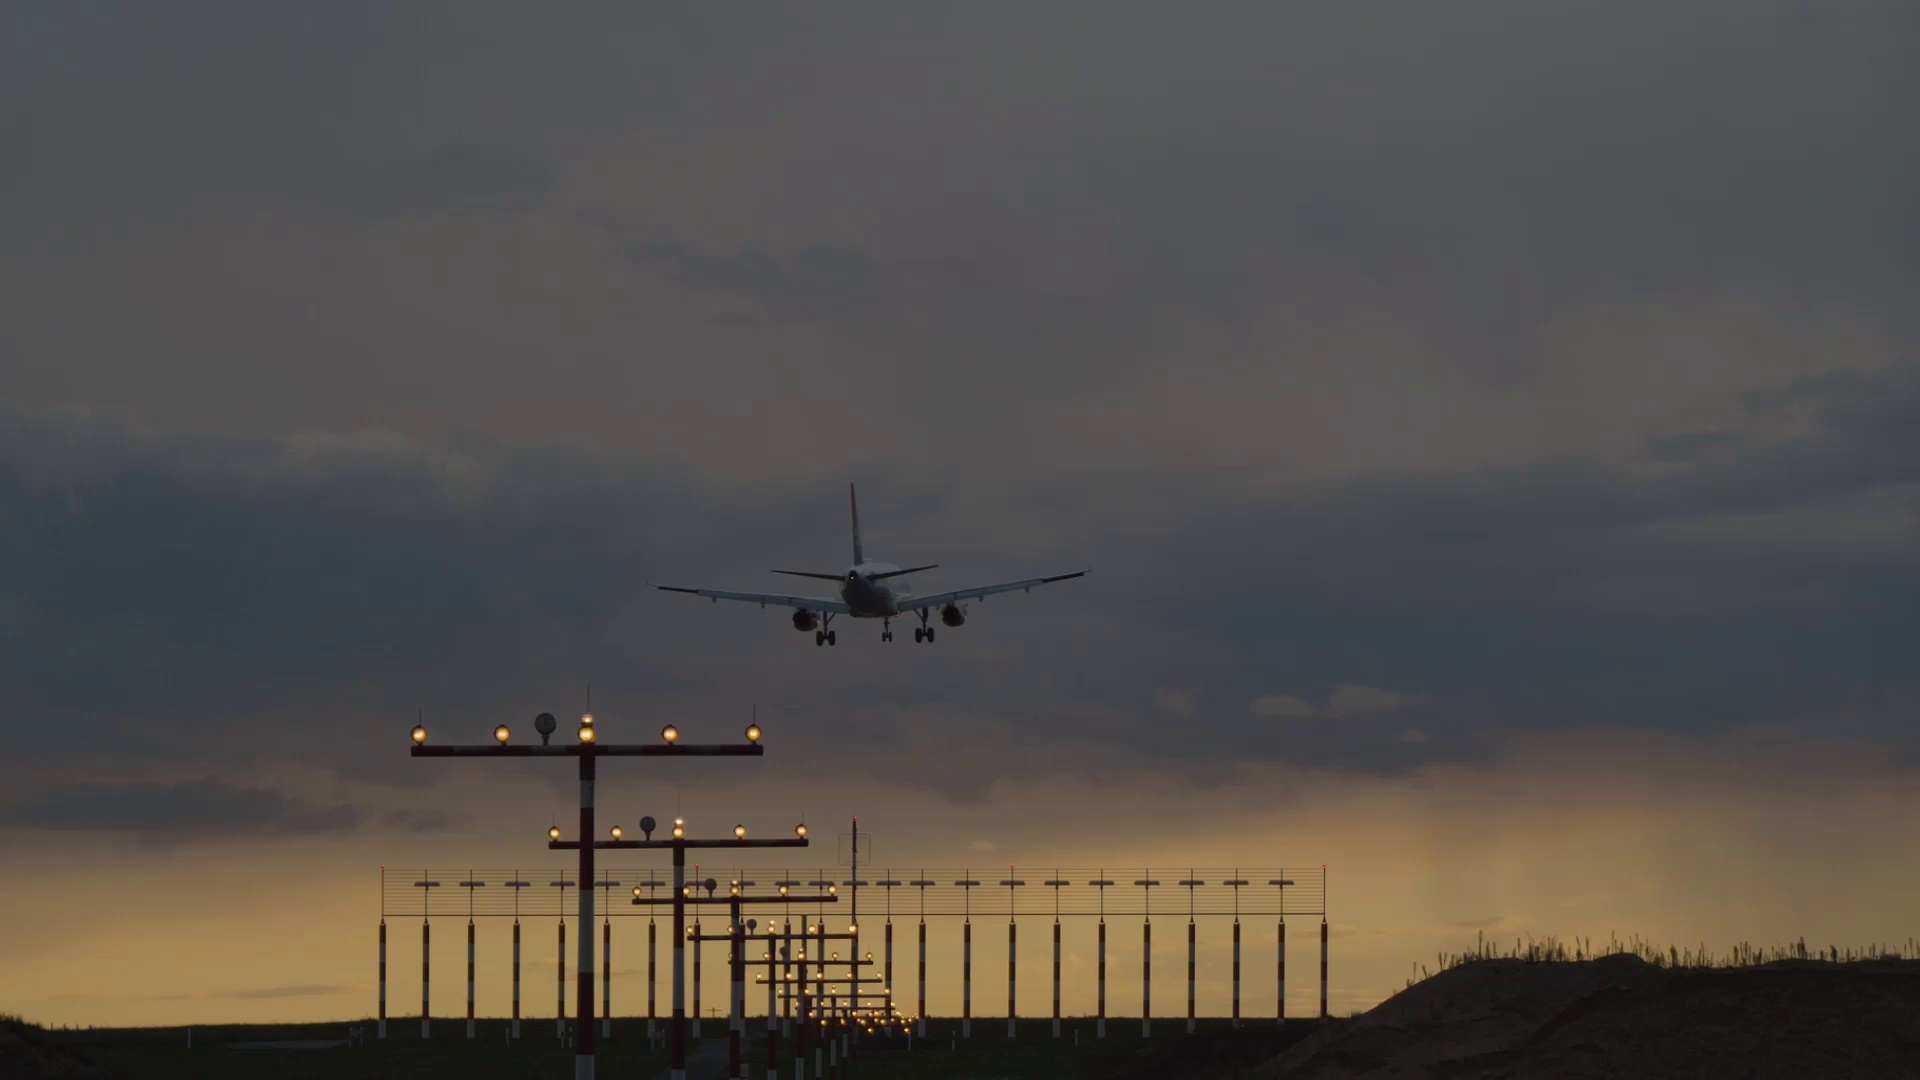plane: (642, 481, 1091, 649)
